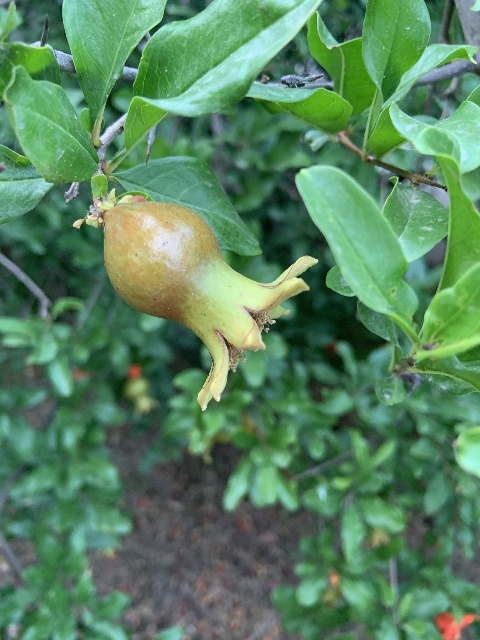early-fruit: (104, 200, 317, 411)
flower: (436, 611, 477, 639)
